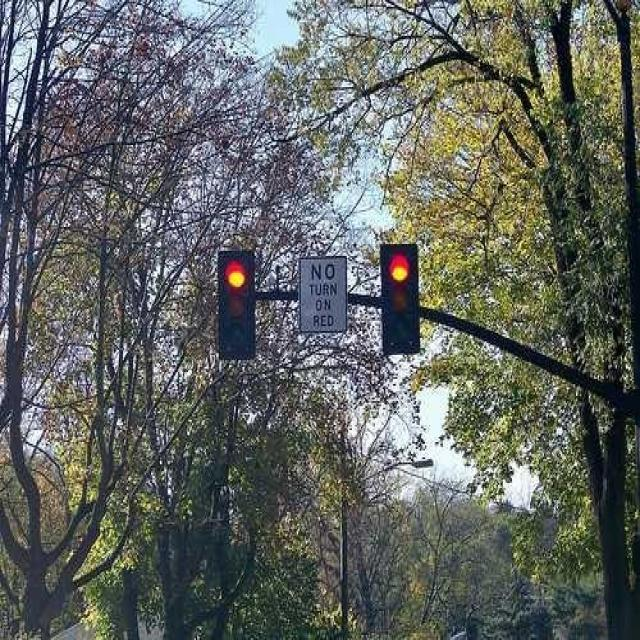Traffic Light -Red-: (383, 242, 421, 354), (219, 252, 252, 362)
